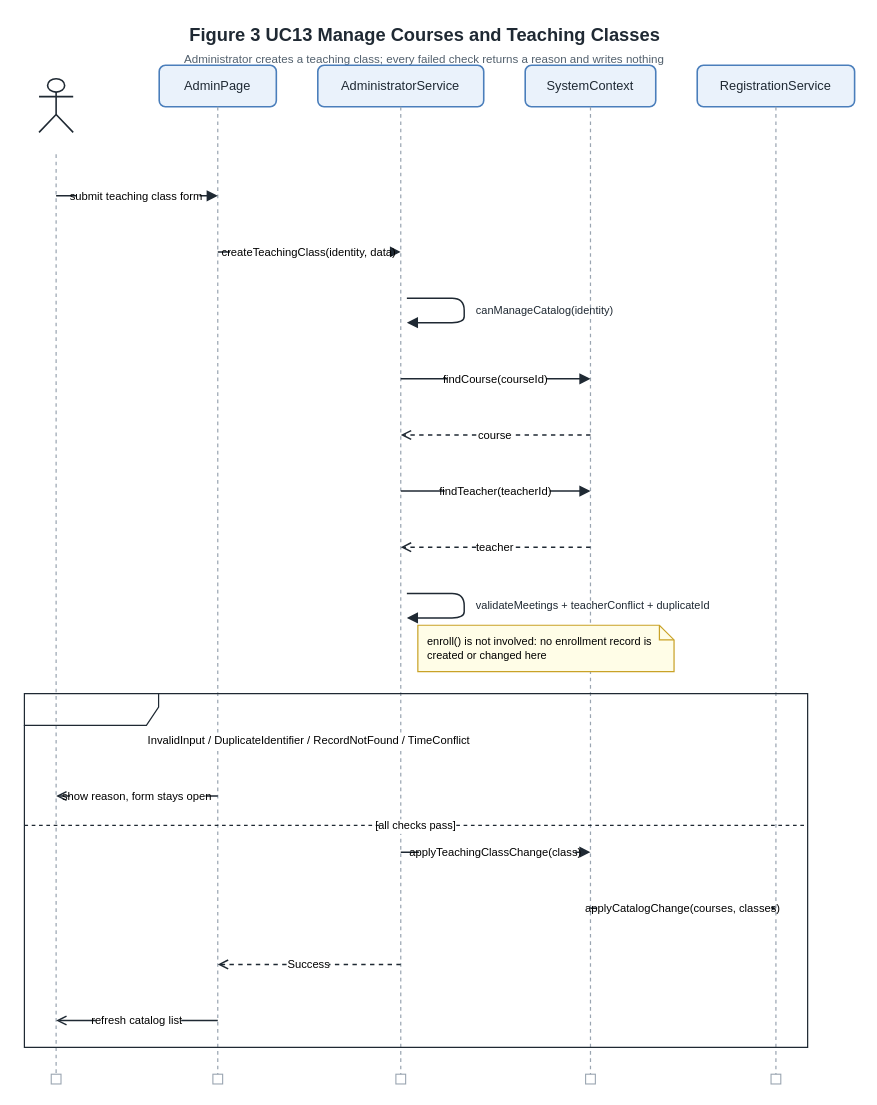
Image size: 877x1105. Some labels were removed from this diagram. Here are the shapes that lost their labels. From the top down, the box of each, then its label:
(38, 77, 73, 133): Administrator
(23, 692, 808, 1047): alt [invalid input, missing reference, duplicate id or teacher conflict]
